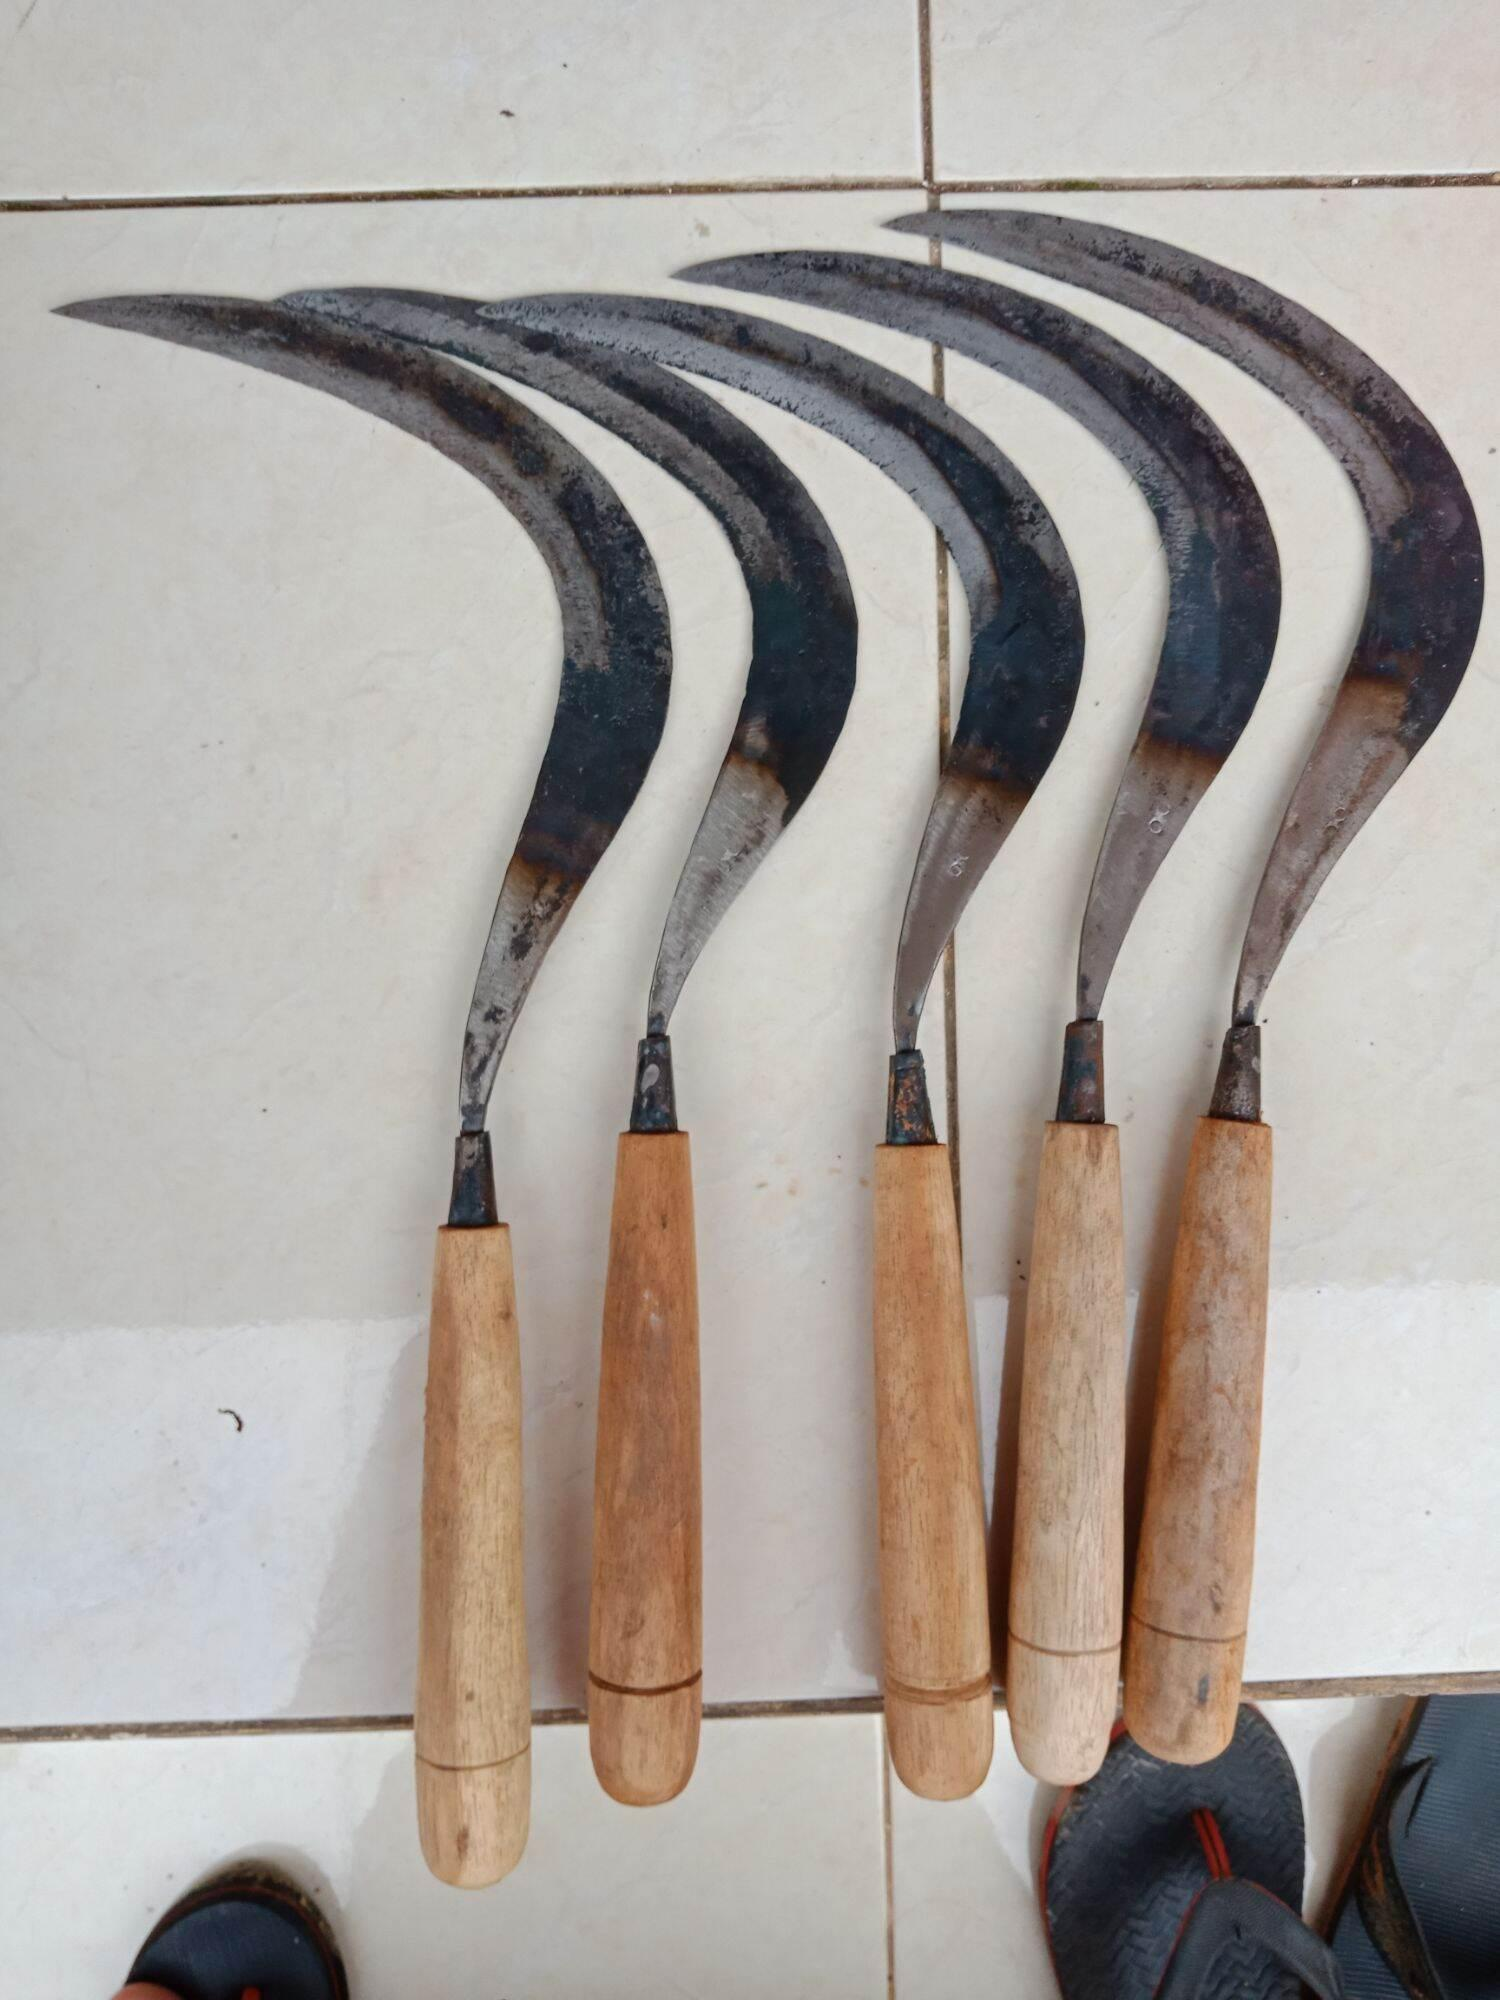foice: (61, 291, 671, 1880), (890, 209, 1483, 1762), (685, 252, 1279, 1778), (488, 294, 1084, 1800), (287, 288, 857, 1805)
